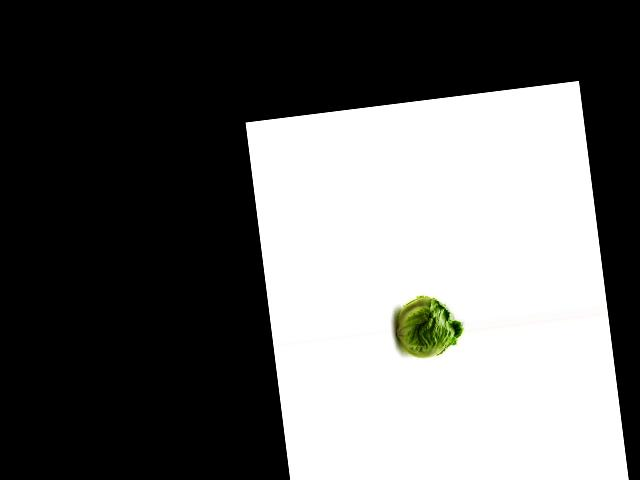lettuce: (388, 285, 466, 363)
